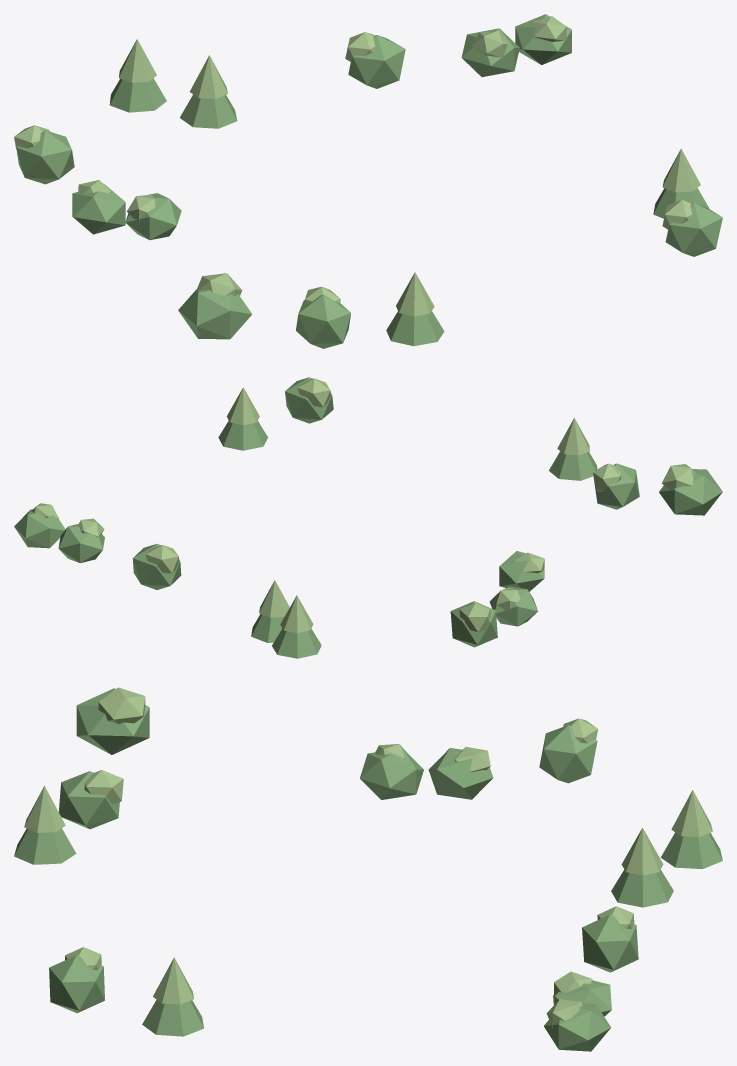
The model's file is cutbank_ford_wind_canopies.fbx.
3 views of the same model, one above another, from view 1: azimuth 30°, elevation 25°; view 2: azimuth 150°, elevation 25°; view 3: azimuth 270°, elevation 25° (orthographic). The views are drawn at different scales.
Parts seen in each view (by area): view 1: chunk_cutbank_ford__tree_canopy_01, chunk_cutbank_ford__tree_canopy_09, chunk_cutbank_ford__tree_canopy_04, chunk_cutbank_ford__tree_canopy_20, chunk_cutbank_ford__tree_canopy_18, chunk_cutbank_ford__tree_canopy_05, chunk_cutbank_ford__tree_canopy_11, chunk_cutbank_ford__tree_canopy_25, chunk_cutbank_ford__tree_canopy_08, chunk_cutbank_ford__tree_canopy_13, chunk_cutbank_ford__tree_canopy_16, chunk_cutbank_ford__tree_canopy_22 (+10 smaller); view 2: chunk_cutbank_ford__tree_canopy_01, chunk_cutbank_ford__tree_canopy_25, chunk_cutbank_ford__tree_canopy_22, chunk_cutbank_ford__tree_canopy_09, chunk_cutbank_ford__tree_canopy_18, chunk_cutbank_ford__tree_canopy_13, chunk_cutbank_ford__tree_canopy_23, chunk_cutbank_ford__tree_canopy_20, chunk_cutbank_ford__tree_canopy_04, chunk_cutbank_ford__tree_canopy_08, chunk_cutbank_ford__tree_canopy_11, chunk_cutbank_ford__tree_canopy_05 (+10 smaller); view 3: chunk_cutbank_ford__tree_canopy_01, chunk_cutbank_ford__tree_canopy_20, chunk_cutbank_ford__tree_canopy_18, chunk_cutbank_ford__tree_canopy_04, chunk_cutbank_ford__tree_canopy_08, chunk_cutbank_ford__tree_canopy_09, chunk_cutbank_ford__tree_canopy_25, chunk_cutbank_ford__tree_canopy_05, chunk_cutbank_ford__tree_canopy_16, chunk_cutbank_ford__tree_canopy_23, chunk_cutbank_ford__tree_canopy_13, chunk_cutbank_ford__tree_canopy_11 (+9 smaller).
Boxes of the visible parts, <box> form: chunk_cutbank_ford__tree_canopy_01: <box>178,289,252,339</box>; chunk_cutbank_ford__tree_canopy_09: <box>296,294,350,348</box>; chunk_cutbank_ford__tree_canopy_04: <box>16,130,74,184</box>; chunk_cutbank_ford__tree_canopy_20: <box>665,203,722,256</box>; chunk_cutbank_ford__tree_canopy_18: <box>348,35,405,88</box>; chunk_cutbank_ford__tree_canopy_05: <box>72,184,125,234</box>; chunk_cutbank_ford__tree_canopy_11: <box>386,311,444,346</box>; chunk_cutbank_ford__tree_canopy_25: <box>515,14,571,64</box>; chunk_cutbank_ford__tree_canopy_08: <box>125,193,181,240</box>; chunk_cutbank_ford__tree_canopy_13: <box>109,78,166,112</box>; chunk_cutbank_ford__tree_canopy_16: <box>180,94,237,128</box>; chunk_cutbank_ford__tree_canopy_22: <box>461,28,519,77</box>; chunk_cutbank_ford__tree_canopy_01: <box>659,469,722,515</box>; chunk_cutbank_ford__tree_canopy_25: <box>14,509,65,548</box>; chunk_cutbank_ford__tree_canopy_22: <box>58,524,104,563</box>; chunk_cutbank_ford__tree_canopy_09: <box>595,463,639,509</box>; chunk_cutbank_ford__tree_canopy_18: <box>132,544,181,589</box>; chunk_cutbank_ford__tree_canopy_13: <box>272,628,321,658</box>; chunk_cutbank_ford__tree_canopy_23: <box>218,420,268,450</box>; chunk_cutbank_ford__tree_canopy_20: <box>285,377,333,423</box>; chunk_cutbank_ford__tree_canopy_04: <box>450,601,497,647</box>; chunk_cutbank_ford__tree_canopy_08: <box>499,551,544,591</box>; chunk_cutbank_ford__tree_canopy_11: <box>549,451,597,480</box>; chunk_cutbank_ford__tree_canopy_05: <box>489,586,537,626</box>; chunk_cutbank_ford__tree_canopy_01: <box>76,688,149,754</box>; chunk_cutbank_ford__tree_canopy_20: <box>49,955,104,1013</box>; chunk_cutbank_ford__tree_canopy_18: <box>582,914,638,972</box>; chunk_cutbank_ford__tree_canopy_04: <box>539,725,597,783</box>; chunk_cutbank_ford__tree_canopy_08: <box>360,748,423,799</box>; chunk_cutbank_ford__tree_canopy_09: <box>59,771,119,829</box>; chunk_cutbank_ford__tree_canopy_25: <box>544,1003,611,1051</box>; chunk_cutbank_ford__tree_canopy_05: <box>428,748,493,799</box>; chunk_cutbank_ford__tree_canopy_16: <box>611,869,673,907</box>; chunk_cutbank_ford__tree_canopy_23: <box>142,999,203,1036</box>; chunk_cutbank_ford__tree_canopy_13: <box>661,832,722,868</box>; chunk_cutbank_ford__tree_canopy_11: <box>14,828,76,864</box>.
Bounding box in the file's own units: 208 × 27.57 × 198.
